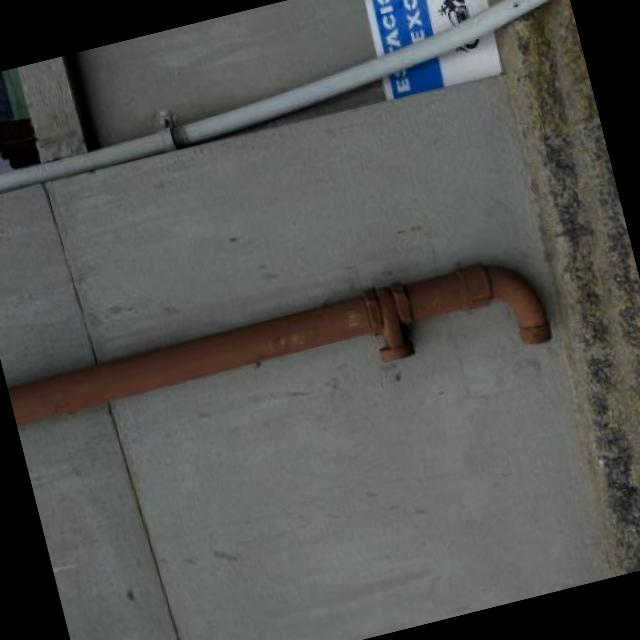gas: (6, 292, 380, 426), (396, 260, 504, 326)
